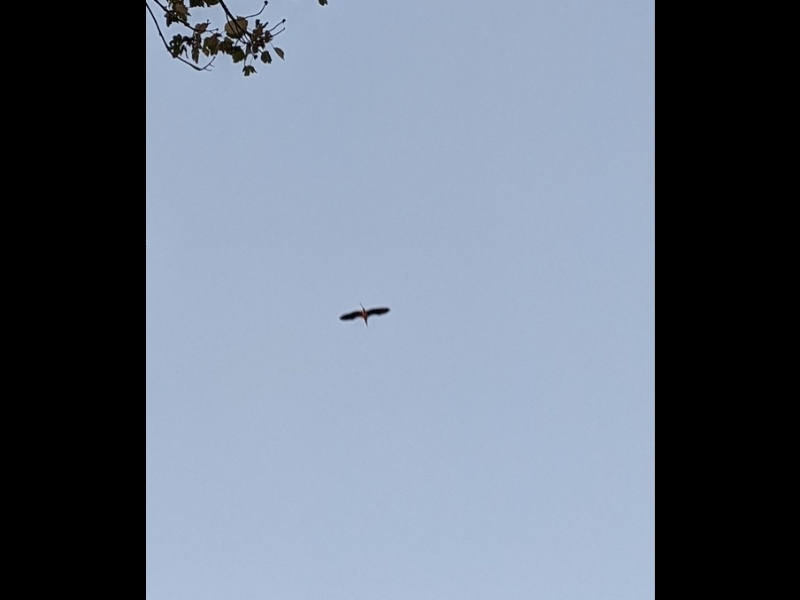heron: (338, 302, 391, 330)
